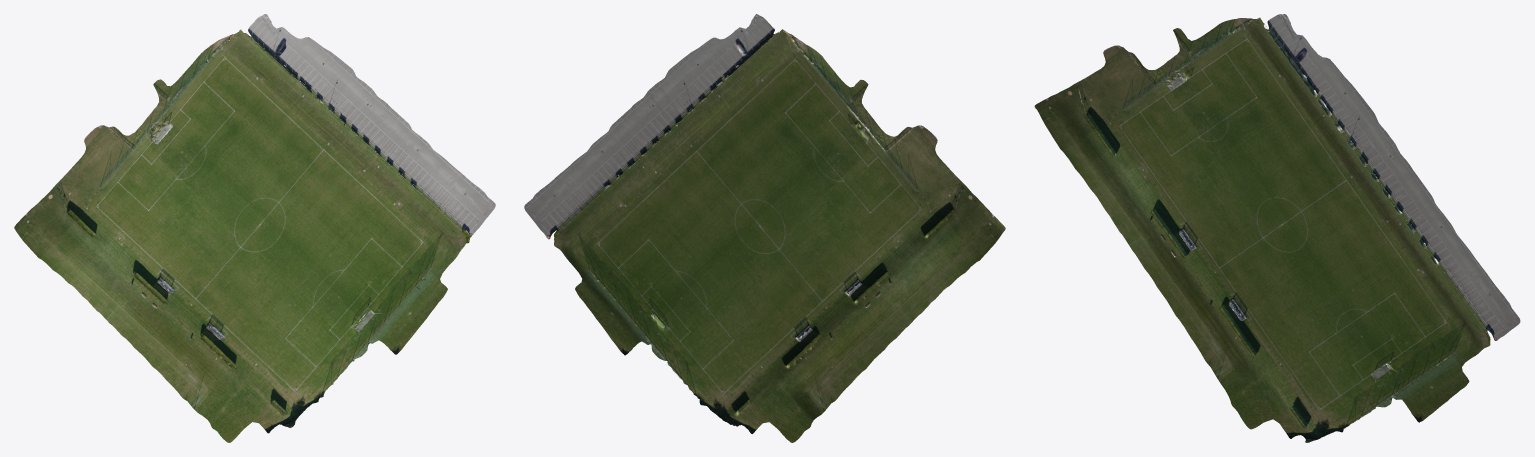
The model's file is test_3d_football_field.glb.
3 views of the same model, side by side, from view 1: azimuth 30°, elevation 25°; view 2: azimuth 150°, elevation 25°; view 3: azimuth 330°, elevation 25° (orthographic).
Visible parts, largest first — view 1: Object_2; view 2: Object_2; view 3: Object_2.
Part boxes in pixels (x1=…): Object_2: x1=14, y1=14, x2=495, y2=442; Object_2: x1=524, y1=14, x2=1005, y2=442; Object_2: x1=1034, y1=14, x2=1520, y2=442.
Size of the model in its own units: 169 by 141 by 3.44.
Materials: 1 (1 with a texture image).
